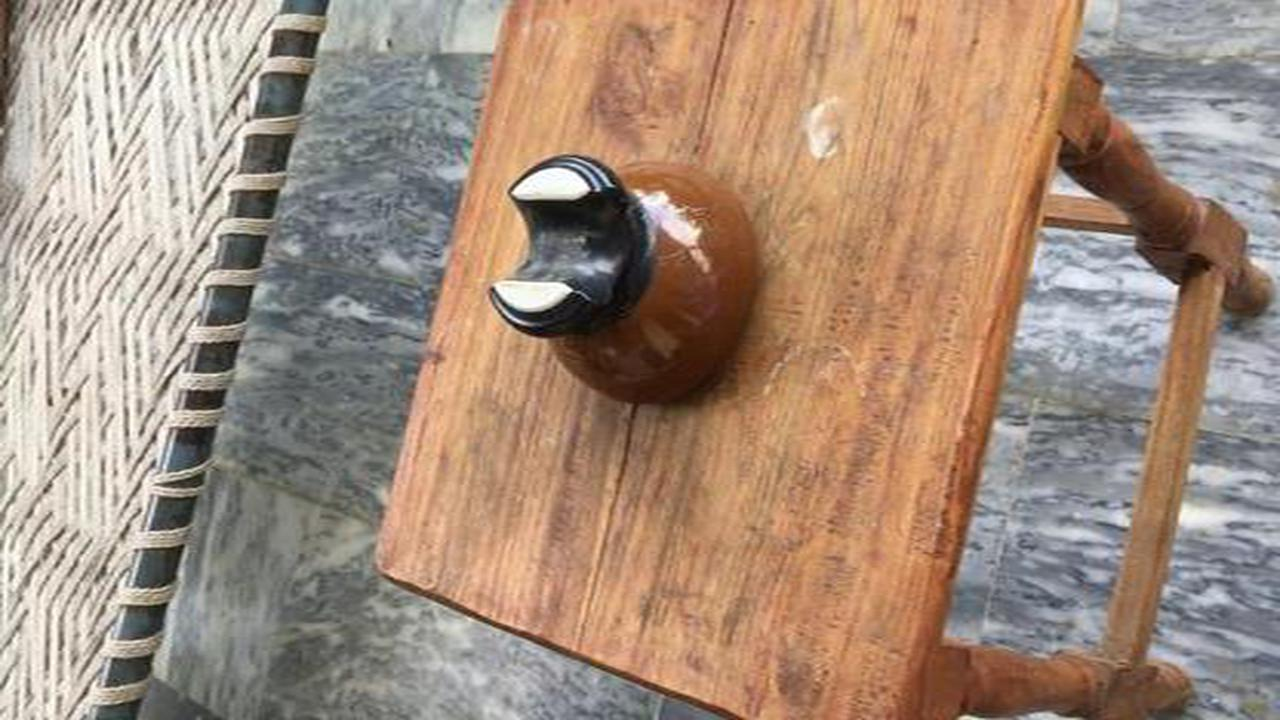insulator_pin: (471, 141, 788, 421)
